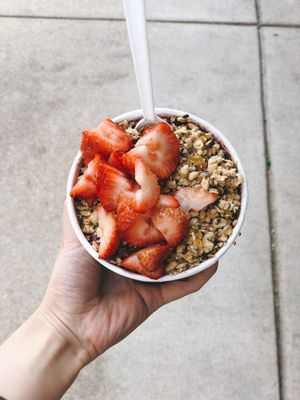sushi: (63, 107, 248, 284)
